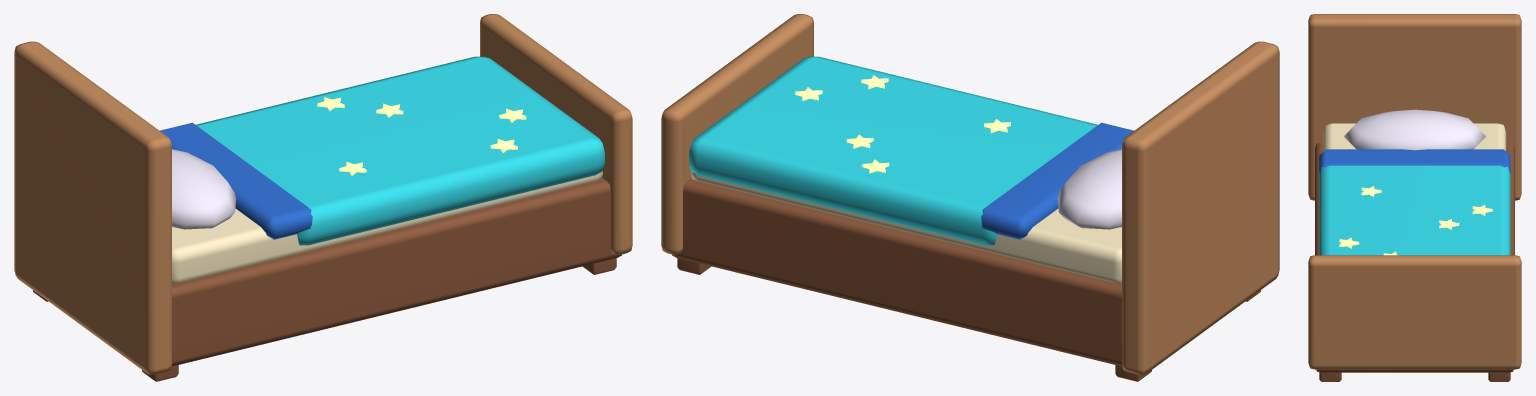
Rendered from bed.glb.
The picture shows the model from 3 angles, left to right: view 1: azimuth 30°, elevation 25°; view 2: azimuth 150°, elevation 25°; view 3: azimuth 270°, elevation 25°; orthographic projection. The views are drawn at different scales.
Visible parts, largest first — view 1: Bed.001; view 2: Bed.001; view 3: Bed.001.
Boxes of the visible parts, bbox=[...] form: Bed.001: bbox=[14, 14, 632, 381]; Bed.001: bbox=[661, 14, 1279, 381]; Bed.001: bbox=[1308, 14, 1521, 381].
Size of the model in its own units: 1.95 by 0.95 by 0.96.
